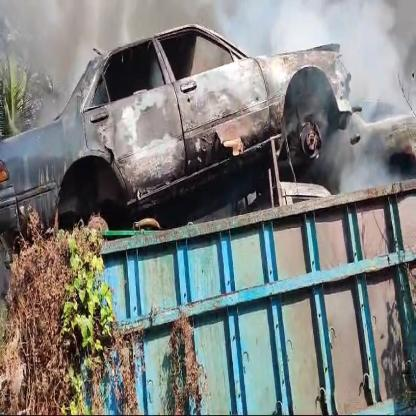Smoke: (0, 0, 416, 201)
